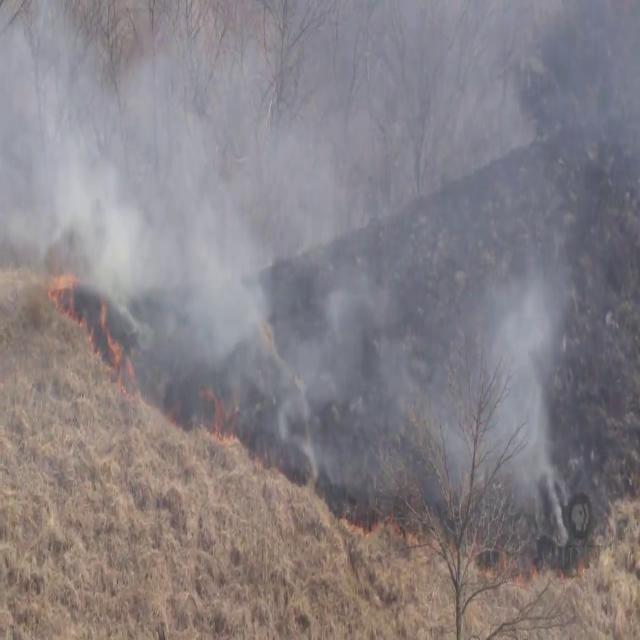Fire: (46, 270, 138, 404)
Smoke: (1, 1, 582, 553)
